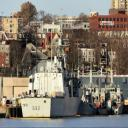Fragata: (21, 3, 85, 120)
